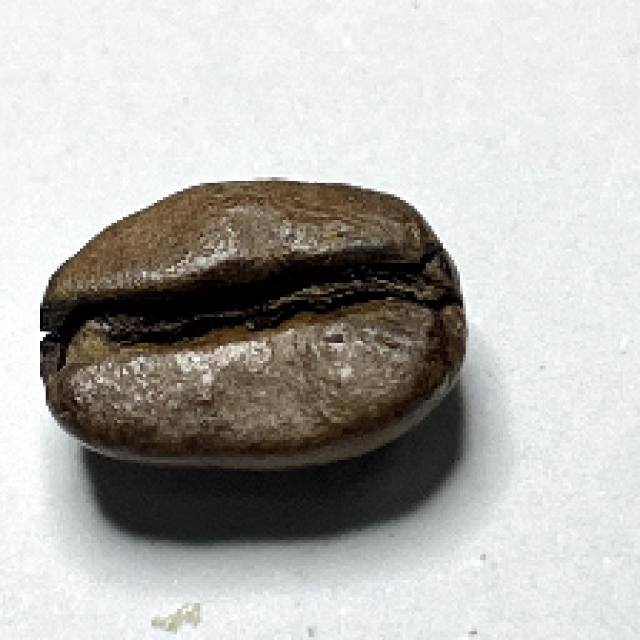bean: (36, 180, 467, 468)
